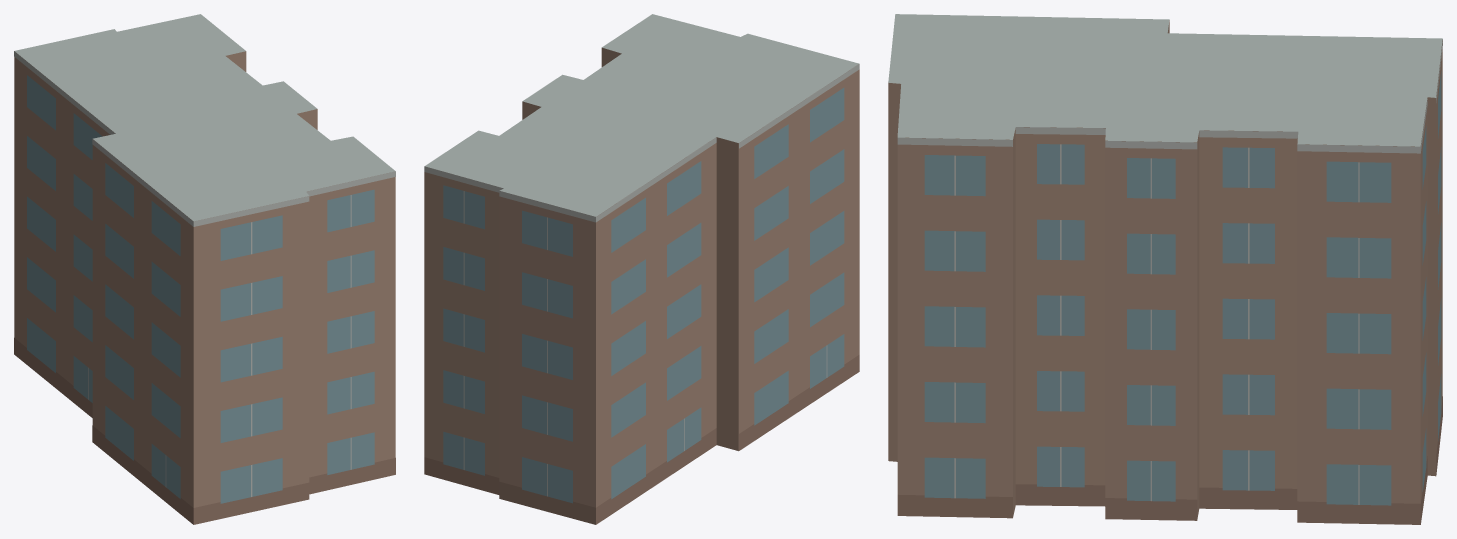
Rendered from survey-upis-32951933.glb.
3 views of the same model, side by side, from view 1: azimuth 30°, elevation 25°; view 2: azimuth 150°, elevation 25°; view 3: azimuth 270°, elevation 25° (orthographic). The views are drawn at different scales.
Visible parts, largest first — view 1: survey-upis-32951933.tmp; view 2: survey-upis-32951933.tmp; view 3: survey-upis-32951933.tmp.
Part boxes in pixels (x1,y1,x2,y2): survey-upis-32951933.tmp: (14,14,395,524); survey-upis-32951933.tmp: (424,14,859,524); survey-upis-32951933.tmp: (888,14,1442,524).
Size of the model in its own units: 9.93 by 13.2 by 17.54.
